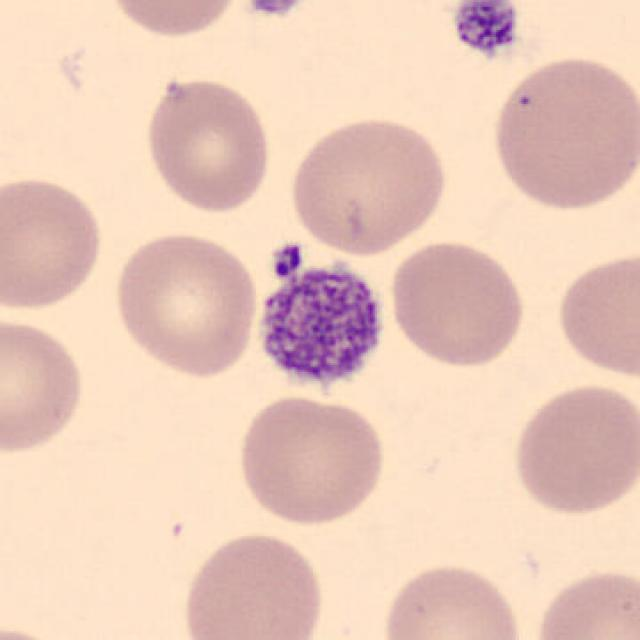Platelets: (247, 240, 393, 405), (444, 0, 524, 62), (240, 0, 318, 19)
RBC: (486, 50, 638, 214), (284, 111, 452, 259), (108, 227, 262, 381), (233, 391, 389, 529), (140, 72, 276, 215), (386, 237, 530, 371), (506, 379, 636, 518), (178, 527, 329, 640), (0, 171, 107, 314), (0, 312, 89, 458), (379, 557, 528, 640), (551, 245, 638, 383), (528, 562, 638, 640), (102, 0, 244, 41)
